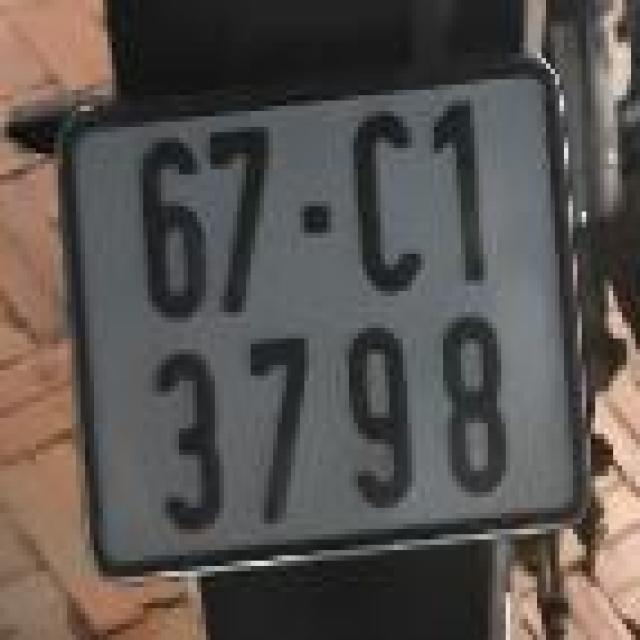1: (421, 93, 496, 288)
3: (121, 320, 242, 547)
6: (119, 119, 217, 336)
7: (232, 318, 318, 534), (204, 124, 284, 320)
8: (434, 288, 515, 495)
9: (322, 301, 439, 529)
C: (327, 93, 434, 310)
